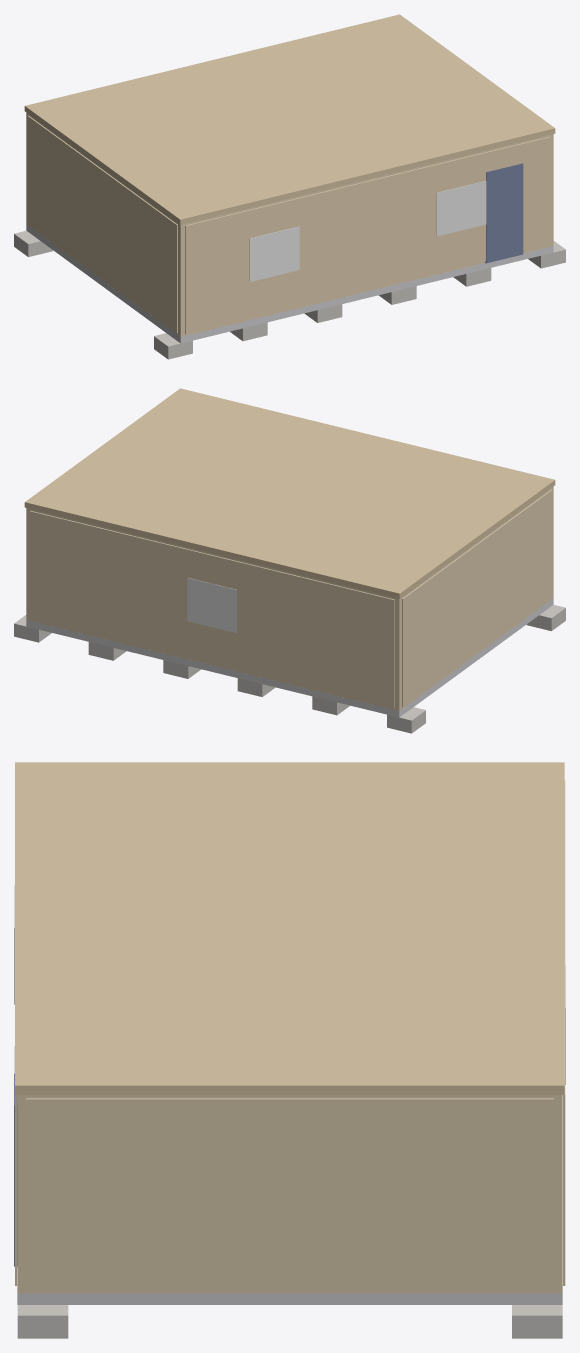
The model's file is Studio-30-Base-LightBrownSand-LOD3.glb.
3 renders of one model, top to bottom at view 1: azimuth 30°, elevation 25°; view 2: azimuth 150°, elevation 25°; view 3: azimuth 270°, elevation 25°, orthographic. The views are drawn at different scales.
Parts seen in each view (by area): view 1: RoofMain, ExteriorPanelsStandard, WindowsStandard, BaseFrame, FoundationBlocks, ExteriorShell, EntryDoor; view 2: RoofMain, ExteriorPanelsStandard, BaseFrame, ExteriorShell, FoundationBlocks, WindowsStandard; view 3: RoofMain, ExteriorPanelsStandard, ExteriorShell, BaseFrame, FoundationBlocks.
Part boxes in pixels (x1,y1,x2,y2): RoofMain: (24, 14, 555, 224); ExteriorPanelsStandard: (27, 115, 549, 334); WindowsStandard: (249, 181, 486, 281); BaseFrame: (26, 224, 553, 343); FoundationBlocks: (14, 230, 565, 359); ExteriorShell: (26, 112, 553, 336); EntryDoor: (485, 163, 523, 263); RoofMain: (24, 388, 555, 598); ExteriorPanelsStandard: (30, 489, 552, 708); BaseFrame: (26, 598, 553, 717); ExteriorShell: (26, 486, 553, 710); FoundationBlocks: (14, 604, 565, 733); WindowsStandard: (187, 577, 236, 633); RoofMain: (15, 762, 564, 1094); ExteriorPanelsStandard: (15, 780, 565, 1290); ExteriorShell: (17, 1095, 562, 1293); BaseFrame: (17, 1293, 562, 1304); FoundationBlocks: (17, 1305, 562, 1338).
Size of the model in its own units: 9.6 by 3.17 by 6.53.
